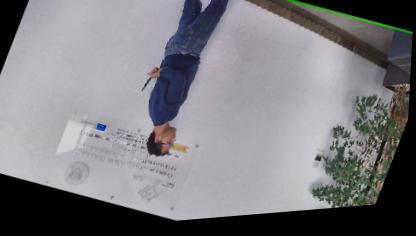knife: (139, 65, 161, 98)
